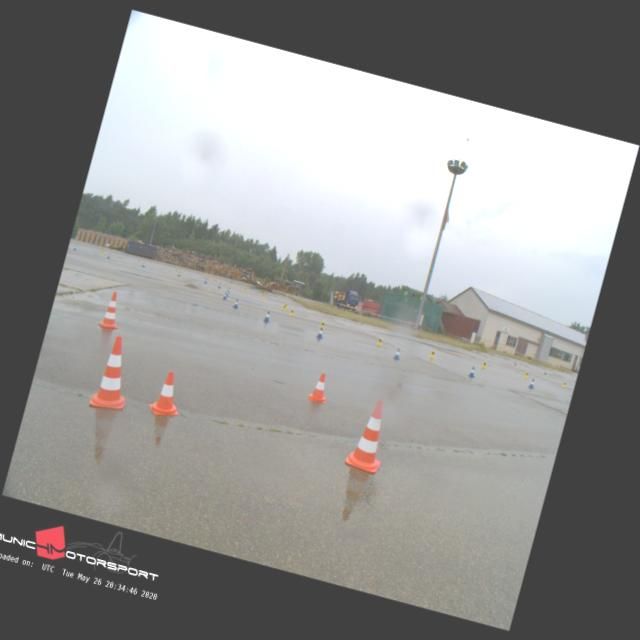blue_cone: (262, 310, 272, 322), (468, 366, 477, 378), (392, 348, 400, 360), (316, 327, 324, 338), (528, 378, 536, 388), (232, 298, 240, 308), (222, 291, 228, 300)
large_orange_cone: (342, 395, 394, 473), (88, 333, 140, 411), (98, 288, 126, 328)
orange_cone: (148, 368, 188, 418), (306, 370, 332, 403)
yellow_cone: (318, 318, 326, 328), (376, 335, 384, 345), (428, 348, 436, 358), (288, 308, 295, 316), (523, 370, 529, 378), (562, 380, 568, 388), (481, 360, 486, 368)
